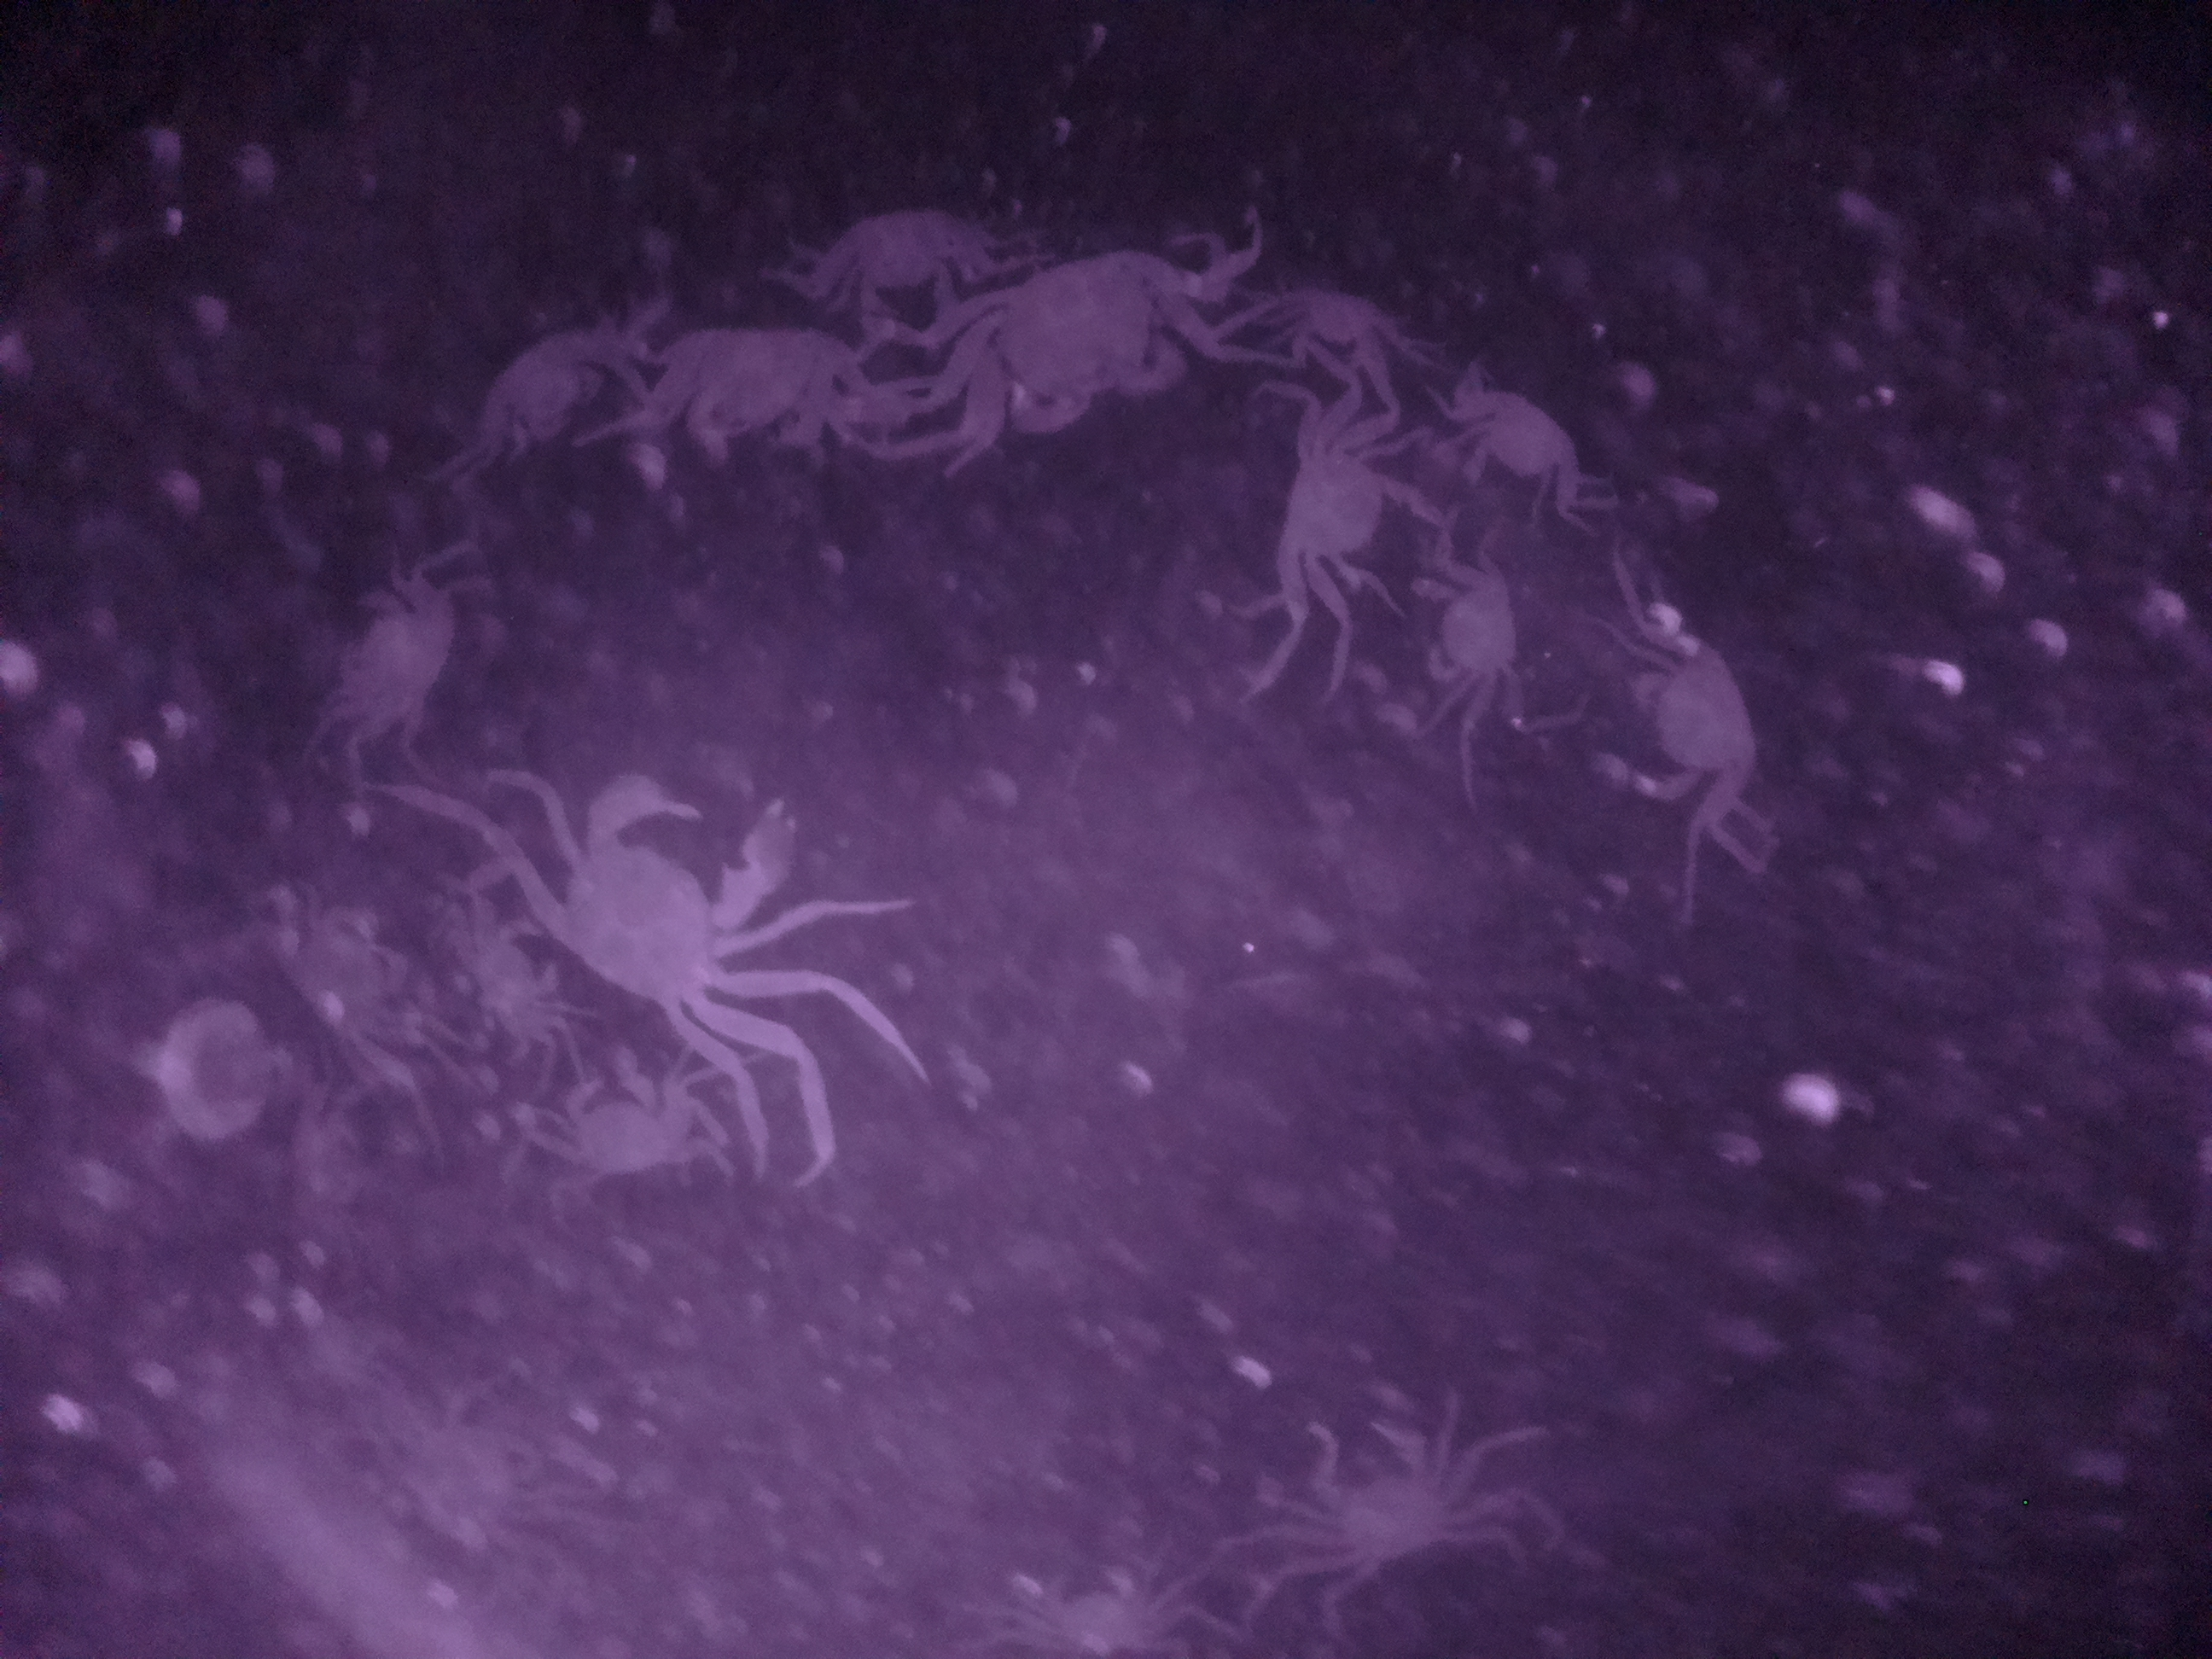Crab: (531, 749, 805, 1033), (928, 232, 1219, 448), (1280, 1415, 1501, 1589), (1620, 615, 1787, 840), (1237, 397, 1409, 605), (1406, 551, 1534, 716), (1447, 371, 1594, 509), (557, 1051, 697, 1194)
